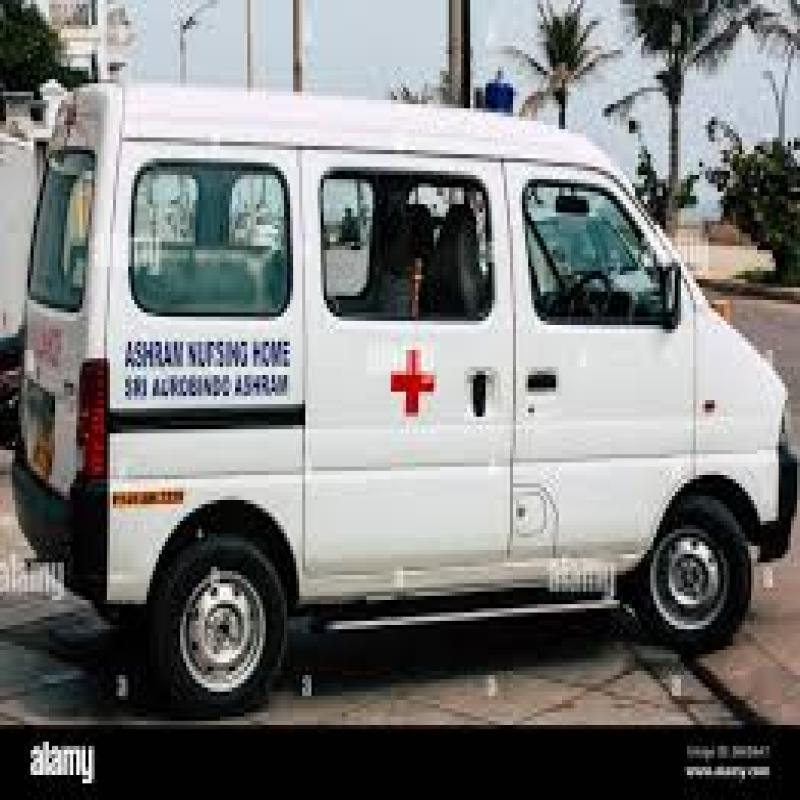ambulance: (18, 56, 800, 675)
